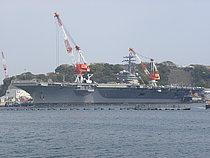MIL_Ship: (11, 51, 204, 104)
